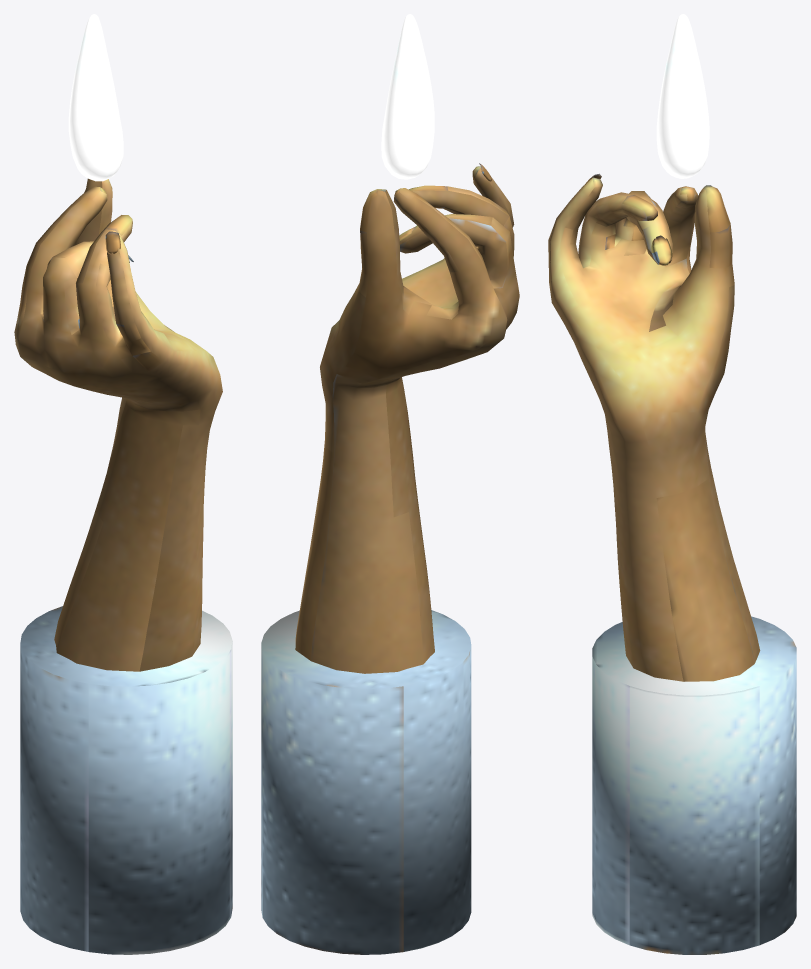
The model's file is CandleLight.glb.
3 views of the same model, side by side, from view 1: azimuth 30°, elevation 25°; view 2: azimuth 150°, elevation 25°; view 3: azimuth 270°, elevation 25° (orthographic). The views are drawn at different scales.
Parts seen in each view (by area): view 1: 柱体.001, Retopo_object_24, mesh_6.002; view 2: 柱体.001, Retopo_object_24, mesh_6.002; view 3: Retopo_object_24, 柱体.001, mesh_6.002.
Part boxes in pixels (box(x1,y1,x2,y2)): 柱体.001: box(20, 606, 232, 954); Retopo_object_24: box(14, 178, 222, 671); mesh_6.002: box(68, 14, 123, 181); 柱体.001: box(261, 610, 471, 954); Retopo_object_24: box(295, 163, 519, 673); mesh_6.002: box(381, 14, 434, 179); Retopo_object_24: box(548, 173, 760, 681); 柱体.001: box(592, 616, 796, 954); mesh_6.002: box(656, 14, 709, 178).
Size of what is drawn, in the model's own units: 0.2255 by 0.906 by 0.232.
Materials: 2 (2 with a texture image).
